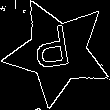P_S: (35, 24, 80, 80)
